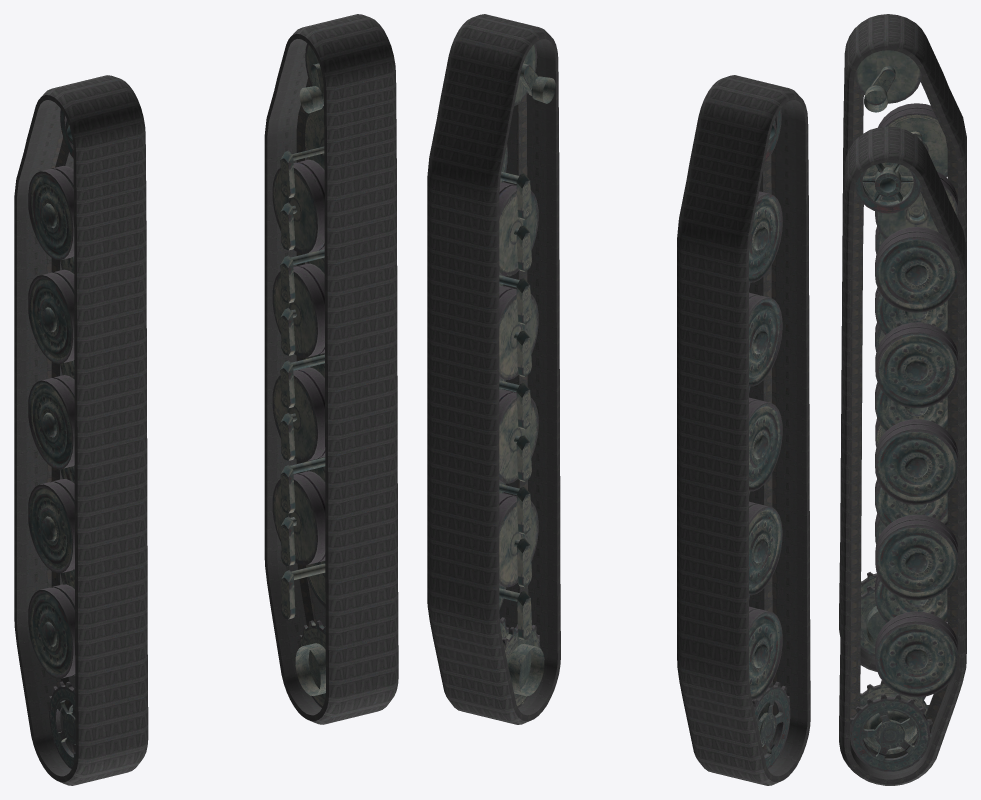
The model's file is Chassis.glb.
The picture shows the model from 3 angles, left to right: view 1: azimuth 30°, elevation 25°; view 2: azimuth 150°, elevation 25°; view 3: azimuth 270°, elevation 25°; orthographic projection. The views are drawn at different scales.
Visible parts, largest first — view 1: set_0_group_0, set_1_group_0, set_3_group_0, set_2_group_0; view 2: set_0_group_0, set_1_group_0, set_3_group_0, set_2_group_0; view 3: set_3_group_0, set_1_group_0, set_0_group_0, set_2_group_0.
Part boxes in pixels (x1,y1,x2,y2): set_0_group_0: (14,75,148,785); set_1_group_0: (264,14,398,724); set_3_group_0: (272,44,325,707); set_2_group_0: (28,109,75,769); set_0_group_0: (677,75,810,785); set_1_group_0: (427,14,560,724); set_3_group_0: (499,43,555,707); set_2_group_0: (749,109,790,768); set_3_group_0: (850,162,957,771); set_1_group_0: (839,126,966,785); set_0_group_0: (839,14,966,671); set_2_group_0: (854,50,957,656).
Bounding box in the file's own units: 3.43 × 7.09 × 1.29.
Materials: 4 (4 with a texture image).
